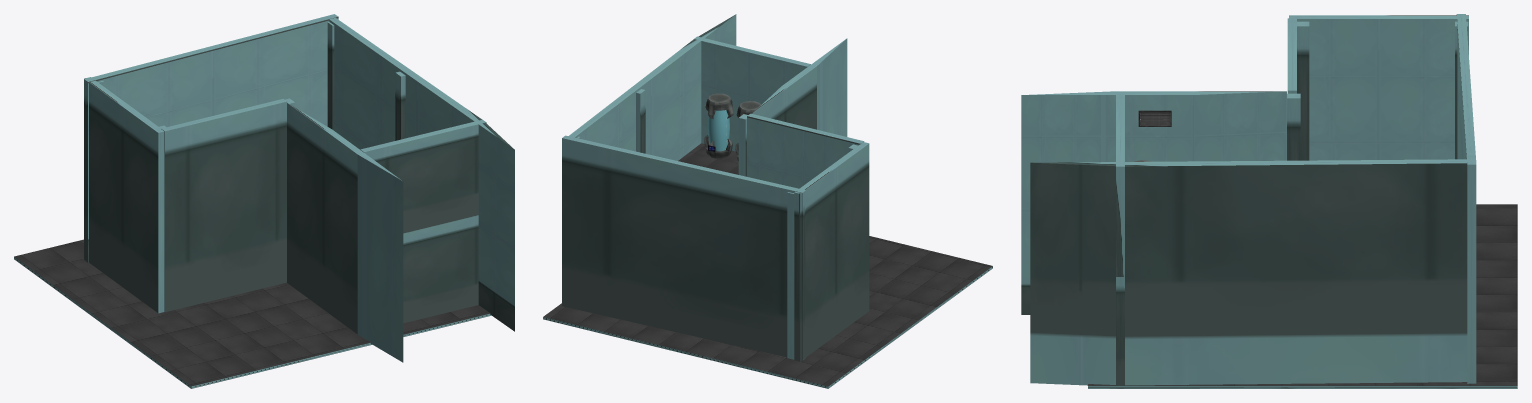
File: metal gear solid export level environment.fbx
The picture shows the model from 3 angles, left to right: view 1: azimuth 30°, elevation 25°; view 2: azimuth 150°, elevation 25°; view 3: azimuth 270°, elevation 25°; orthographic projection. The views are drawn at different scales.
Visible parts, largest first — view 1: pasted__North_wall1, pasted__East_wall3, pasted__Ground_floor, pasted__West_wall, pasted__North_wall3, pasted__East_wall2, pasted__North_wall, pasted__North_wall2, pasted__Paal_3, pasted__Palen; view 2: pasted__North_wall3, pasted__Ground_floor, pasted__East_wall2, pasted__West_wall, pasted__North_wall1, pasted__North_wall, pasted__East_wall3, pasted__schetmpje1, pasted__Paal_4, pasted__Platform_binnen, pasted__Palen, pasted__Paal_1; view 3: pasted__West_wall, pasted__East_wall2, pasted__East_wall3, pasted__Ground_floor, pasted__North_wall3, pasted__North_wall, pasted__Paal_5, pasted__North_wall2, pasted__Paal_1, pasted__North_wall1, pasted__pCube41, pasted__Paal_4.
Boxes of the visible parts, box(x1,y1,x2,y2) form: pasted__North_wall1: box(161, 99, 287, 312); pasted__East_wall3: box(287, 103, 403, 362); pasted__Ground_floor: box(14, 239, 491, 388); pasted__West_wall: box(329, 18, 514, 331); pasted__North_wall3: box(84, 14, 338, 262); pasted__East_wall2: box(84, 77, 164, 313); pasted__North_wall: box(360, 119, 486, 233); pasted__North_wall2: box(403, 215, 478, 323); pasted__Paal_3: box(327, 22, 334, 130); pasted__Palen: box(395, 71, 405, 140); pasted__North_wall3: box(562, 135, 805, 360); pasted__Ground_floor: box(543, 236, 992, 388); pasted__East_wall2: box(794, 142, 869, 361); pasted__West_wall: box(568, 14, 736, 160); pasted__North_wall1: box(747, 113, 864, 188); pasted__North_wall: box(694, 36, 810, 134); pasted__East_wall3: box(752, 38, 847, 136); pasted__schetmpje1: box(704, 93, 733, 158); pasted__Paal_4: box(787, 192, 794, 359); pasted__Platform_binnen: box(678, 143, 738, 174); pasted__Palen: box(636, 89, 645, 153); pasted__Paal_1: box(738, 114, 747, 176); pasted__West_wall: box(1030, 159, 1467, 385); pasted__East_wall2: box(1289, 15, 1468, 160); pasted__East_wall3: box(1021, 91, 1286, 314); pasted__Ground_floor: box(1088, 204, 1517, 388); pasted__North_wall3: box(1456, 14, 1476, 383); pasted__North_wall: box(1116, 94, 1124, 276); pasted__Paal_5: box(1297, 21, 1309, 160); pasted__North_wall2: box(1116, 277, 1124, 385); pasted__Paal_1: box(1287, 93, 1300, 160); pasted__North_wall1: box(1287, 18, 1296, 93); pasted__pCube41: box(1138, 110, 1171, 126); pasted__Paal_4: box(1455, 21, 1468, 159).
Size of the model in its own units: 8.72 by 5.04 by 10.08.
